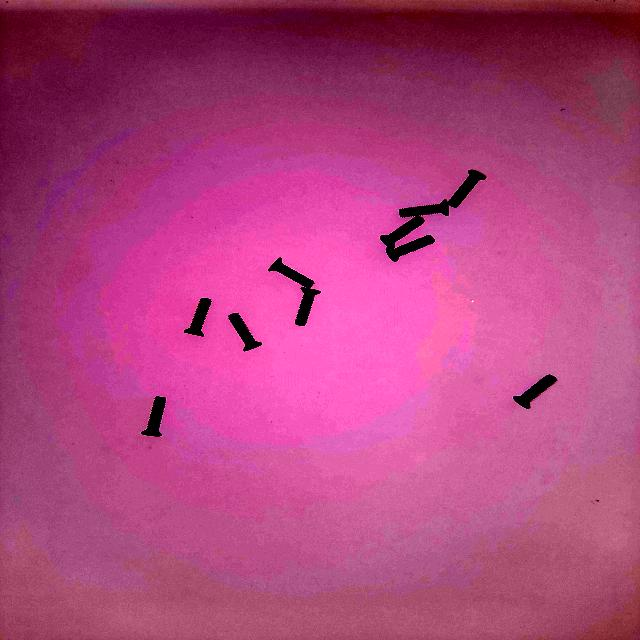Screws: (378, 172, 484, 263), (398, 172, 485, 220), (267, 254, 321, 327), (513, 375, 559, 411), (225, 313, 263, 354), (141, 395, 168, 440), (185, 298, 212, 337)
